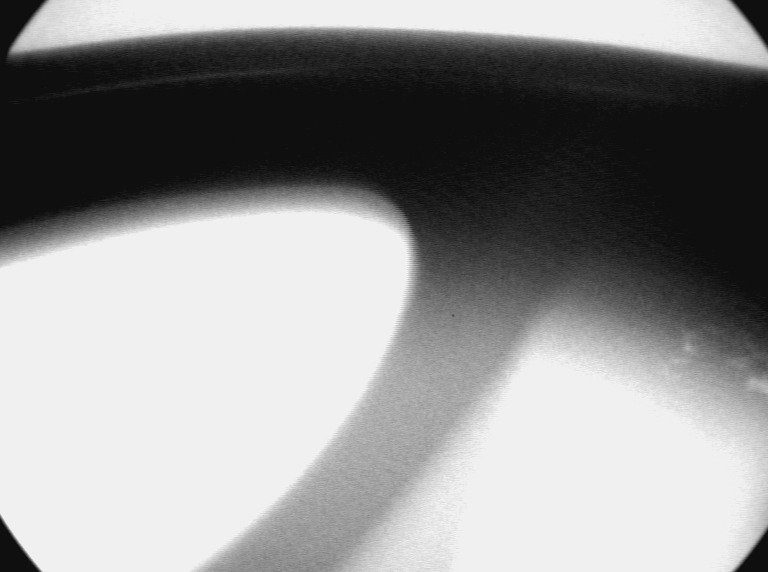defect: (656, 320, 768, 399)
